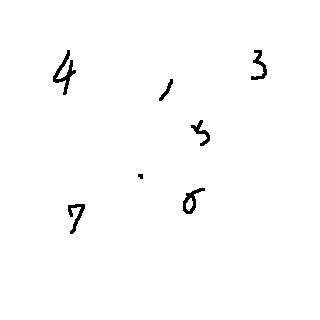.: (132, 164, 150, 188)
1: (155, 73, 177, 105)
3: (242, 49, 273, 86)
4: (47, 43, 83, 103)
5: (185, 117, 221, 152)
6: (176, 175, 213, 218)
7: (55, 200, 91, 236)
